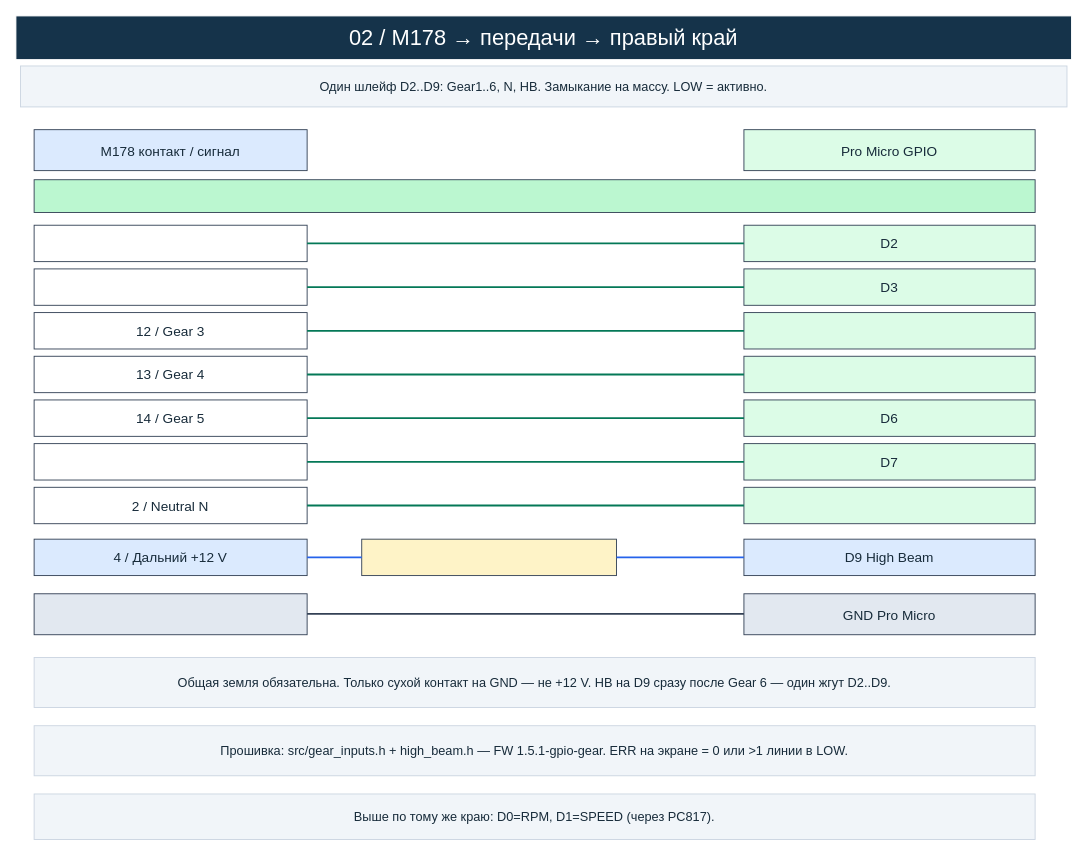
This 1087x855 diagram has some shape labels left out. Here are the shapes that lost their labels. From the top down, the box of each, then its label:
(33, 179, 1035, 212): Правый ряд платы — передачи подряд
(33, 224, 307, 262): 10 / Gear 1
(33, 268, 307, 305): 11 / Gear 2
(743, 312, 1035, 349): D4
(743, 355, 1035, 393): D5
(33, 443, 307, 480): 15 / Gear 6
(743, 486, 1035, 524): D8
(361, 538, 617, 576): PC817 →
(33, 593, 307, 635): 1 / GND масса байка
